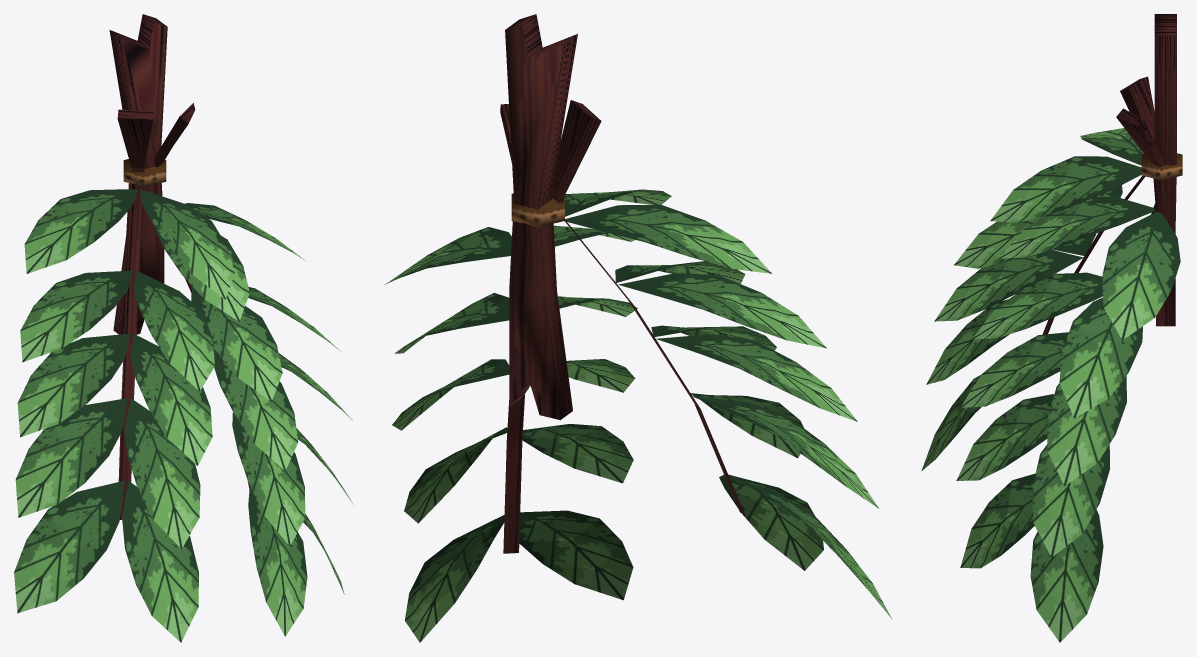
File: Branch_Handle.fbx
The picture shows the model from 3 angles, left to right: view 1: azimuth 30°, elevation 25°; view 2: azimuth 150°, elevation 25°; view 3: azimuth 270°, elevation 25°; orthographic projection. The views are drawn at different scales.
Visible parts, largest first — view 1: Branch_Handle; view 2: Branch_Handle; view 3: Branch_Handle.
Part boxes in pixels (x1=…): Branch_Handle: x1=14, y1=14, x2=352, y2=642; Branch_Handle: x1=384, y1=14, x2=891, y2=642; Branch_Handle: x1=921, y1=14, x2=1182, y2=642.
Bounding box in the file's own units: 0.5491 × 0.352 × 0.8229.
Materials: 1 (1 with a texture image).
